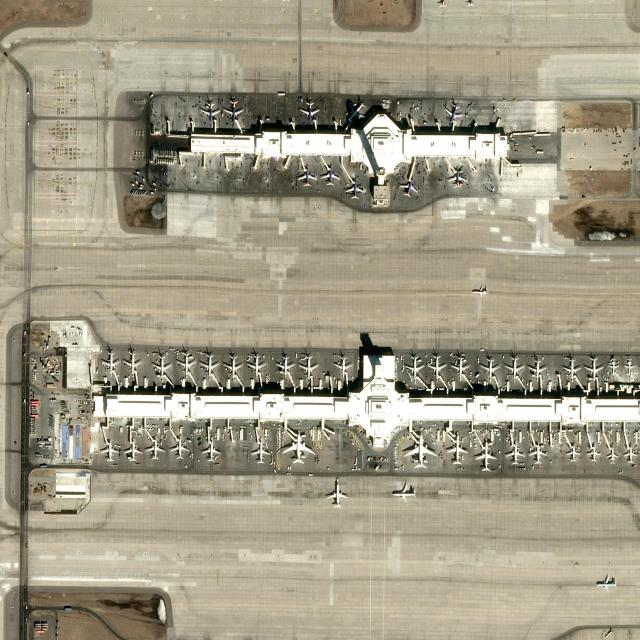1: (436, 0, 449, 11), (462, 0, 478, 8)
aircraft: (403, 433, 439, 469), (281, 428, 315, 464), (323, 478, 348, 508), (402, 352, 426, 382), (474, 441, 497, 471), (447, 434, 468, 466), (427, 352, 449, 381), (198, 351, 220, 379), (151, 351, 172, 379), (344, 98, 366, 124), (389, 481, 416, 502), (122, 350, 142, 378), (479, 356, 501, 381), (177, 348, 196, 376), (198, 99, 220, 123), (101, 350, 121, 376), (247, 353, 267, 379), (223, 352, 243, 378), (450, 354, 470, 380), (250, 439, 270, 465), (442, 101, 464, 124), (446, 166, 467, 190), (121, 438, 142, 462), (299, 354, 318, 380), (506, 442, 524, 469), (298, 100, 320, 122), (144, 438, 166, 460), (223, 98, 243, 122), (320, 163, 340, 187), (332, 354, 352, 378), (504, 356, 524, 380), (202, 439, 221, 464), (584, 356, 602, 382), (100, 441, 122, 462), (344, 176, 364, 199), (275, 355, 295, 378), (169, 437, 189, 460), (563, 356, 581, 381), (528, 358, 548, 380), (298, 165, 316, 188), (398, 177, 418, 197), (529, 444, 547, 466), (594, 575, 618, 589), (586, 446, 602, 464), (566, 446, 582, 462), (606, 446, 619, 464), (624, 447, 638, 463), (472, 285, 489, 298), (624, 358, 634, 377), (608, 359, 618, 375)
